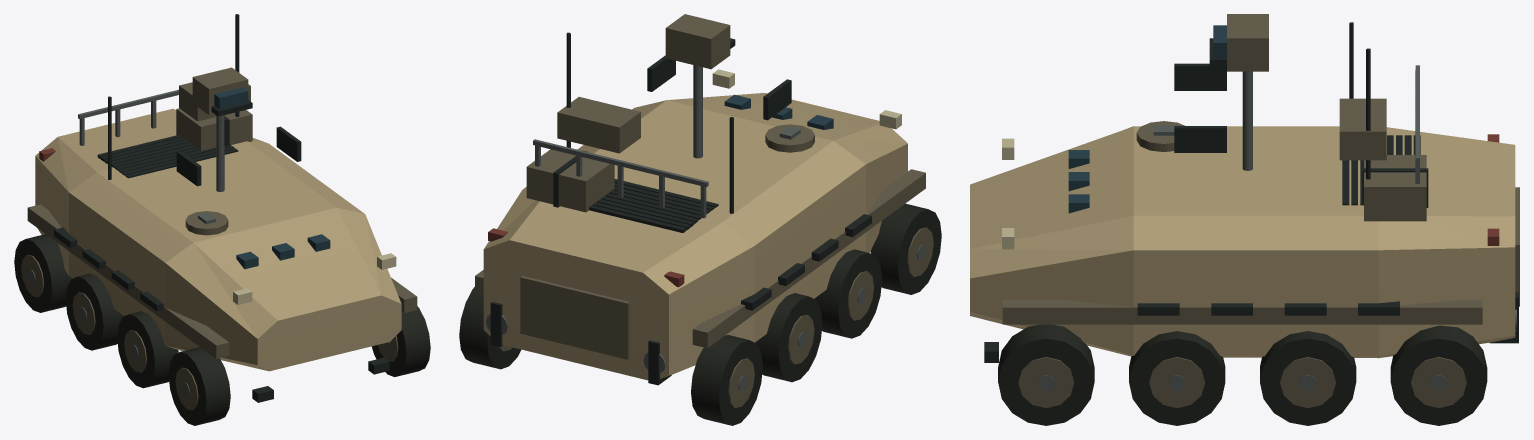
File: reconVehicle.glb
3 renders of one model, left to right at view 1: azimuth 30°, elevation 25°; view 2: azimuth 150°, elevation 25°; view 3: azimuth 270°, elevation 25°, orthographic. The views are drawn at different scales.
Visible parts, largest first — view 1: armor, equipment (×2), glass (×2); view 2: armor, equipment (×2), glass; view 3: armor, equipment (×2), glass.
Part boxes in pixels (bbox=[...]): armor: bbox=[35, 108, 401, 371]; equipment (×2): bbox=[14, 14, 430, 425]; glass (×2): bbox=[214, 87, 330, 269]; armor: bbox=[483, 93, 907, 380]; equipment (×2): bbox=[459, 14, 941, 425]; glass: bbox=[724, 94, 833, 129]; armor: bbox=[970, 126, 1515, 358]; equipment (×2): bbox=[984, 14, 1519, 425]; glass: bbox=[1068, 150, 1089, 213].
Bounding box in the file's own units: 3.19 × 3.65 × 5.24.
